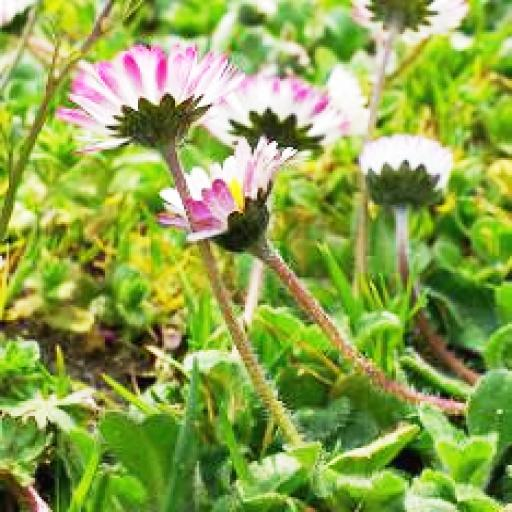daisy: (68, 47, 230, 147), (158, 147, 291, 237), (214, 72, 332, 143), (359, 134, 451, 203)
